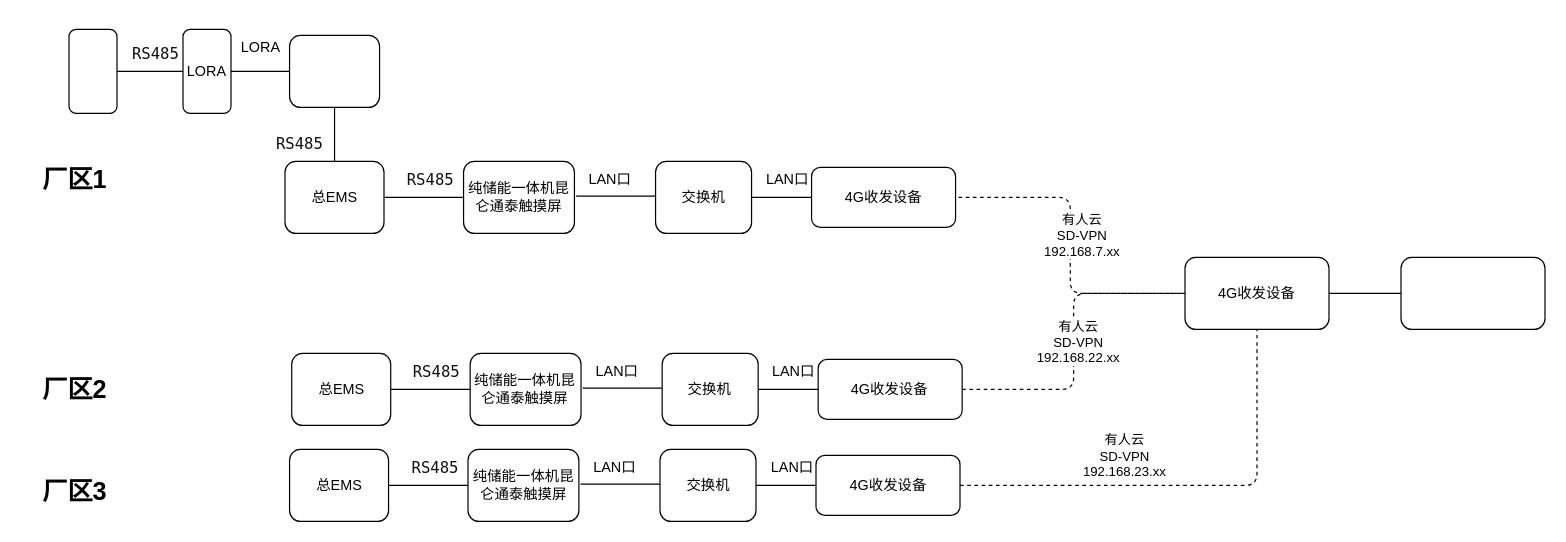
Image size: 1566x542. Some labels were removed from this diagram. Each missing label, with the box of its shape:
LORA总机: (288, 34, 380, 107)
服务器（三门）: (1400, 256, 1545, 329)
电表1: (68, 28, 117, 113)
